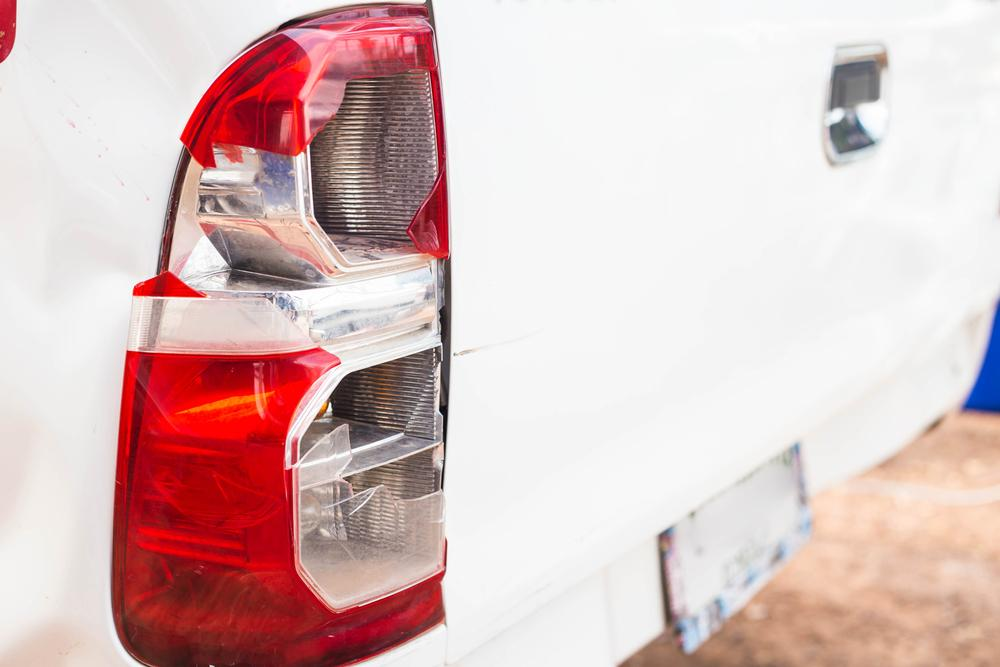lamp broken: (115, 4, 451, 667)
